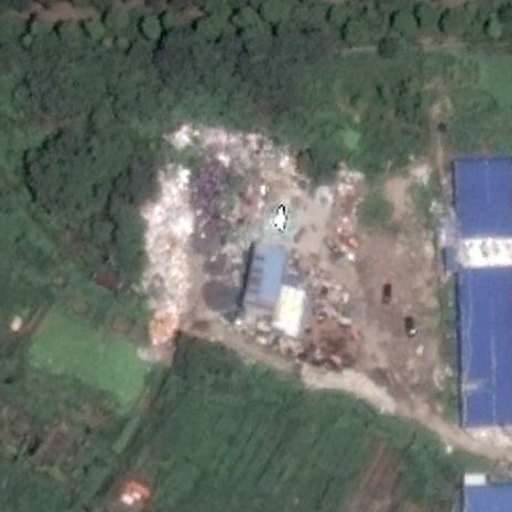msw: (142, 120, 361, 370)
